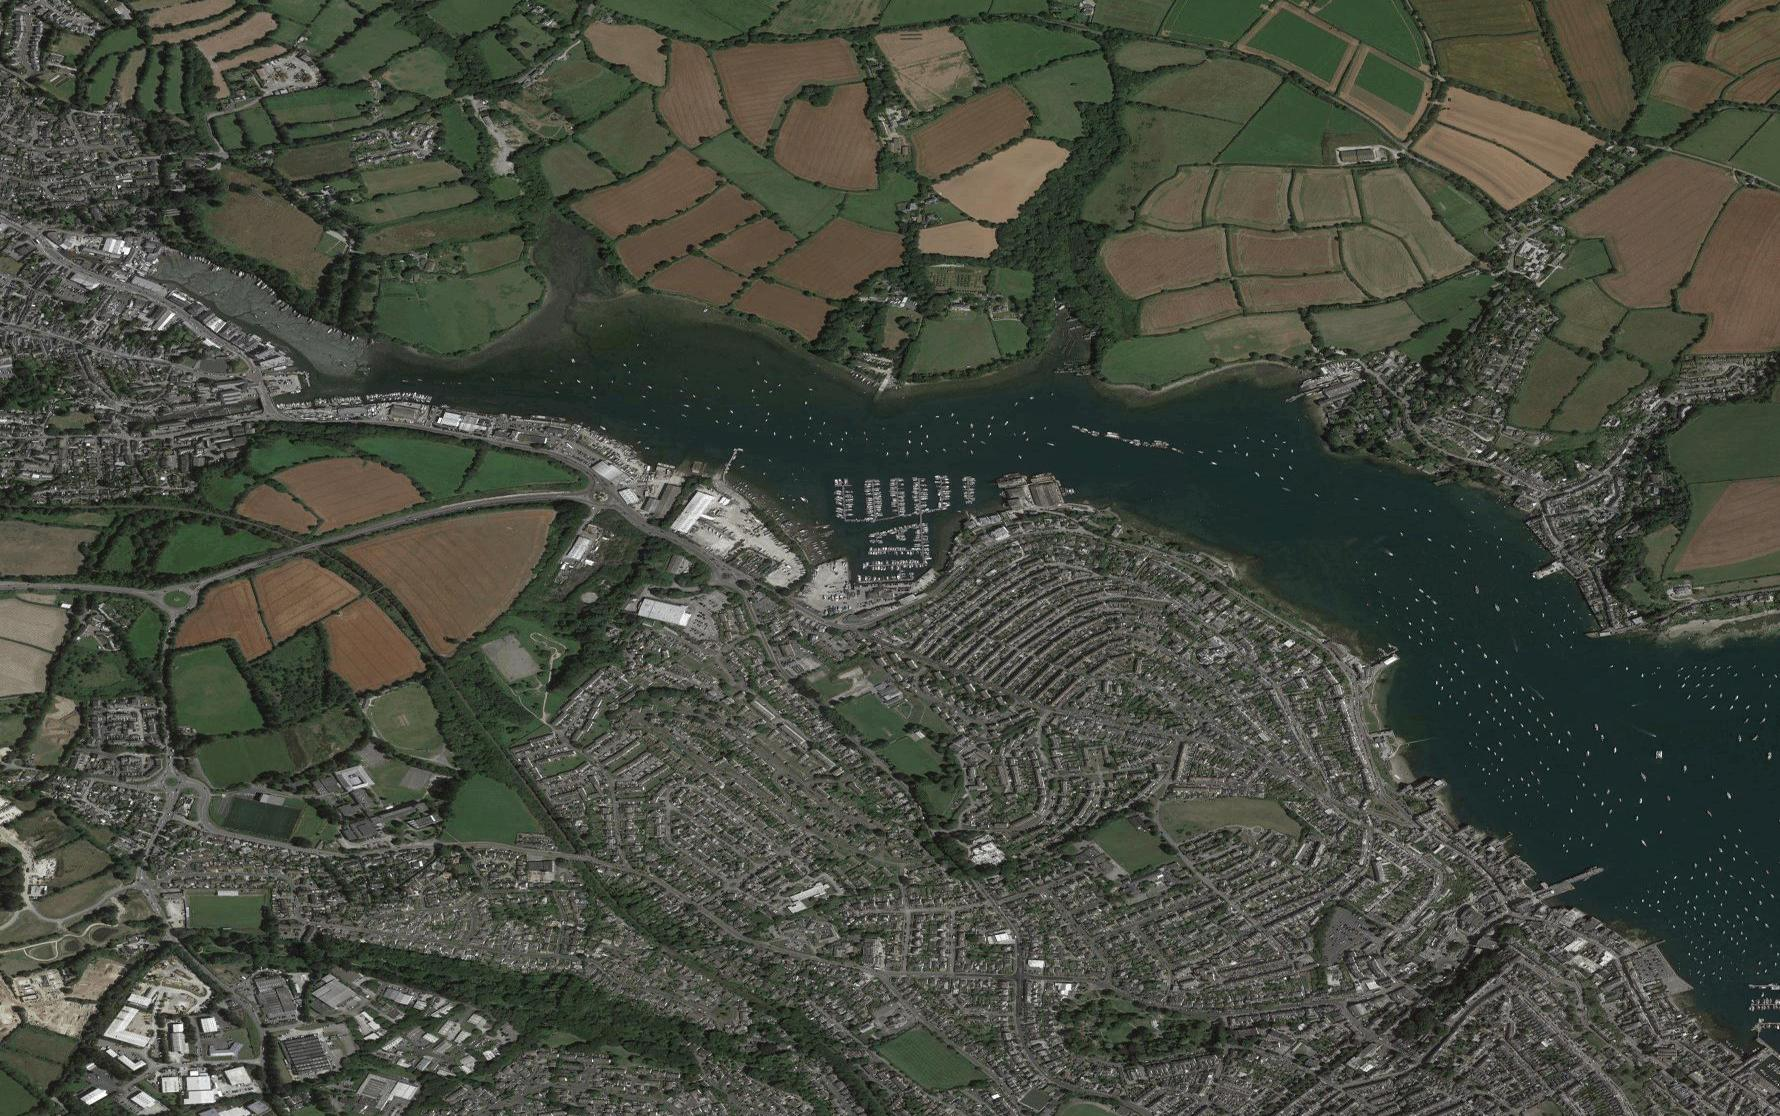harbor: (775, 449, 1005, 606)
motorway: (306, 482, 568, 555), (161, 543, 305, 612), (3, 573, 156, 606)
